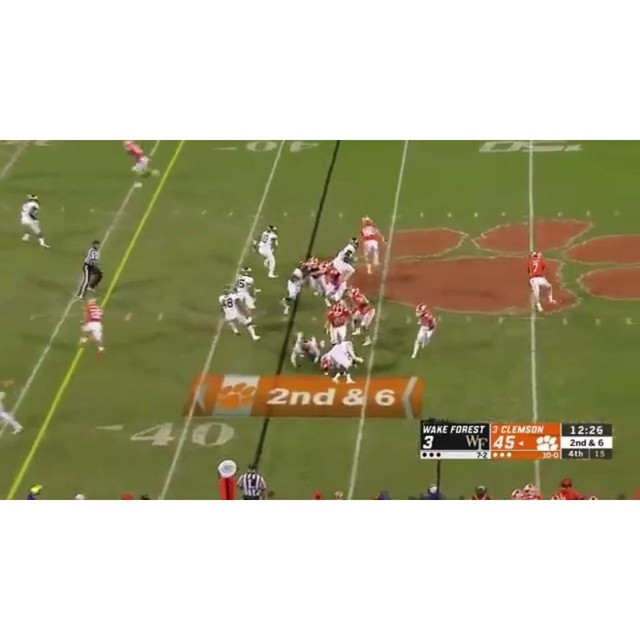american-football-player: (219, 285, 260, 341), (320, 340, 362, 384), (527, 251, 554, 314), (348, 286, 377, 343), (280, 260, 310, 315), (20, 194, 49, 248), (411, 302, 438, 360), (79, 300, 106, 355), (122, 140, 157, 182), (359, 215, 385, 270), (1, 373, 24, 435), (254, 225, 280, 278), (324, 301, 353, 346), (234, 267, 258, 317), (290, 333, 322, 369), (333, 238, 360, 280), (322, 262, 348, 304)
referee: (75, 240, 102, 300)
